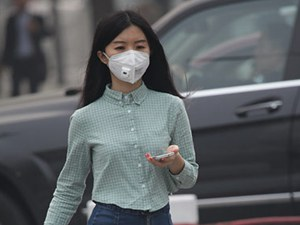face_mask: (106, 26, 150, 82)
